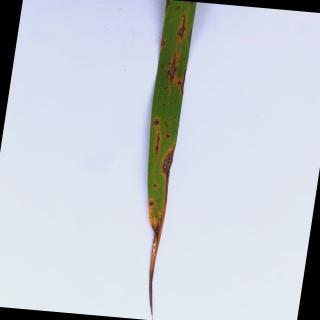Blast: (161, 144, 175, 178), (167, 52, 177, 80), (178, 13, 186, 40), (154, 132, 161, 158), (181, 69, 187, 99), (166, 0, 171, 13), (160, 38, 166, 48), (154, 118, 160, 126), (175, 6, 182, 12), (166, 133, 170, 139), (150, 202, 154, 206), (154, 230, 158, 234), (154, 184, 156, 188)
